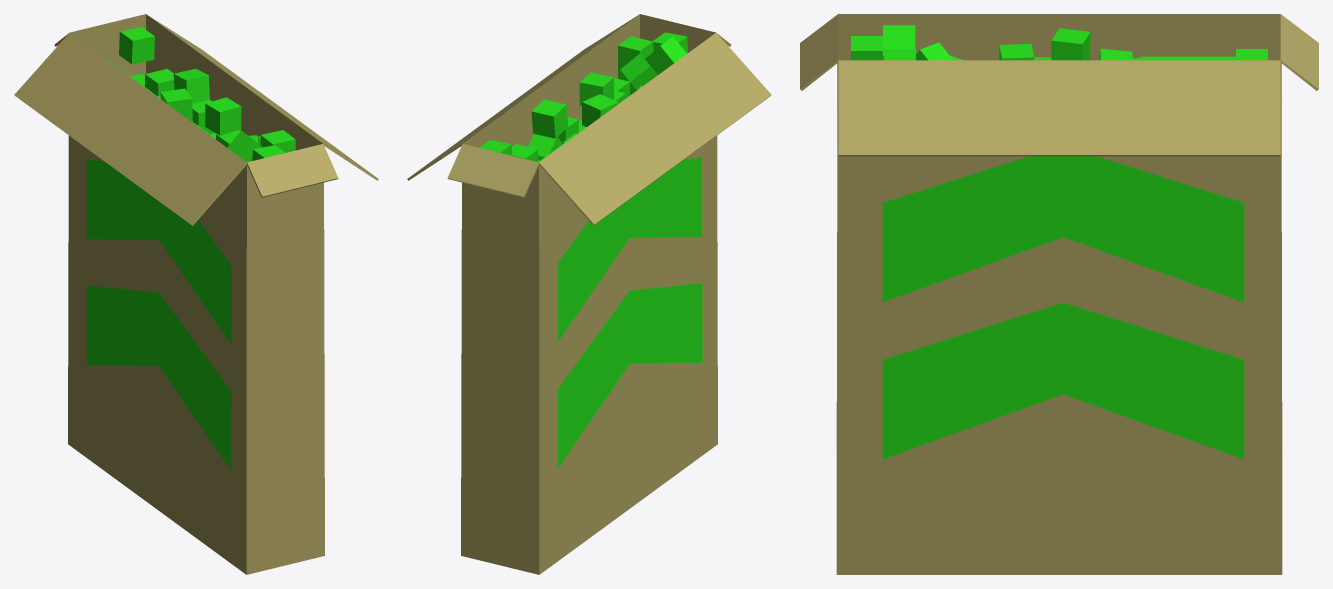
The model's file is Fertilizers.fbx.
The picture shows the model from 3 angles, left to right: view 1: azimuth 30°, elevation 25°; view 2: azimuth 150°, elevation 25°; view 3: azimuth 270°, elevation 25°; orthographic projection. The views are drawn at different scales.
Parts seen in each view (by area): view 1: Cube.001; view 2: Cube.001; view 3: Cube.001.
Part boxes in pixels (<box>): Cube.001: <box>14,14,378,574</box>; Cube.001: <box>407,14,771,574</box>; Cube.001: <box>800,14,1318,574</box>.
Bounding box in the file's own units: 9.56 × 18.38 × 20.24.
